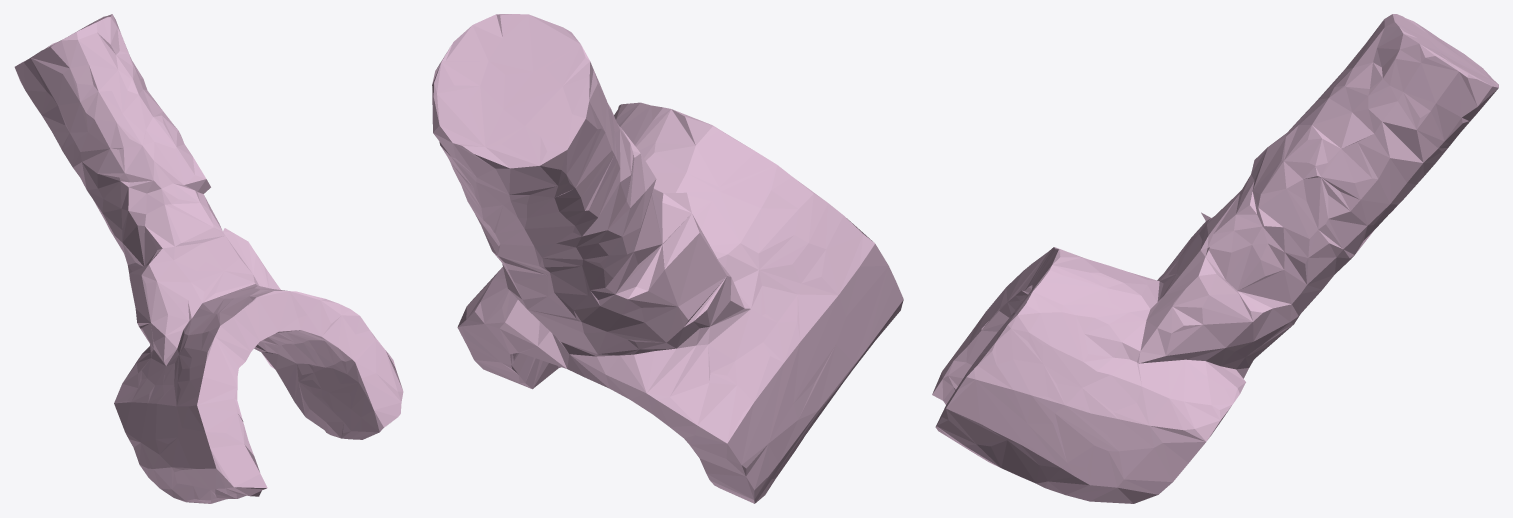
File: spider-6.glb
3 renders of one model, left to right at view 1: azimuth 30°, elevation 25°; view 2: azimuth 150°, elevation 25°; view 3: azimuth 270°, elevation 25°, orthographic. The views are drawn at different scales.
Visible parts, largest first — view 1: part_06; view 2: part_06; view 3: part_06.
Part boxes in pixels (box(x1,y1,x2,y2)): part_06: box(14, 14, 403, 503); part_06: box(432, 14, 903, 503); part_06: box(932, 14, 1498, 503).
Size of the model in its own units: 0.1226 by 0.2332 by 0.2598.
